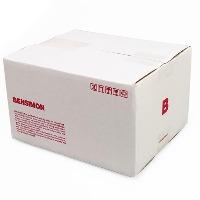undamaged: (0, 27, 195, 178)
